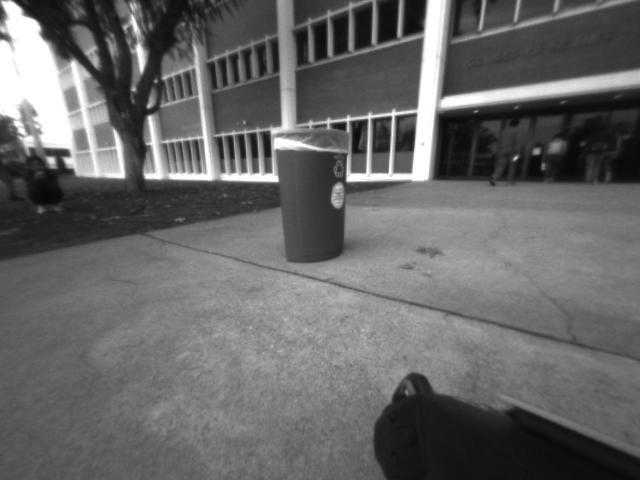trashcan_open: (266, 118, 362, 267)
